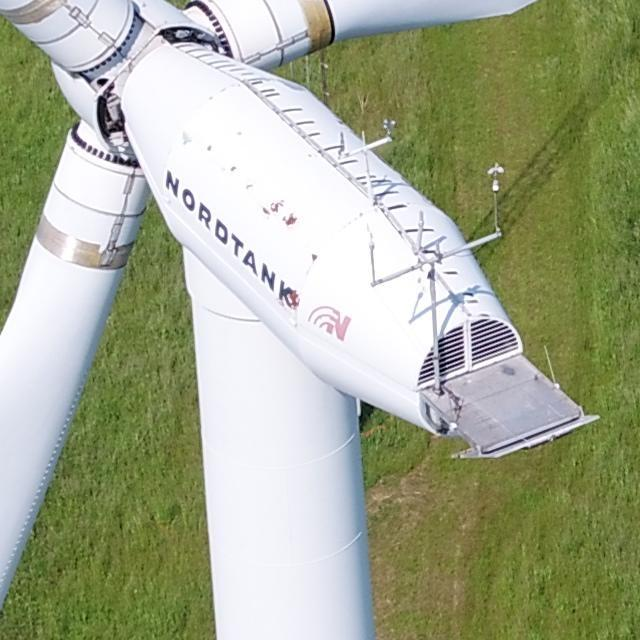damage: (178, 128, 195, 147), (287, 289, 301, 310), (281, 212, 298, 227), (270, 200, 282, 215), (260, 206, 271, 217), (310, 252, 318, 262), (229, 165, 238, 173), (245, 183, 253, 190), (207, 145, 212, 153)
